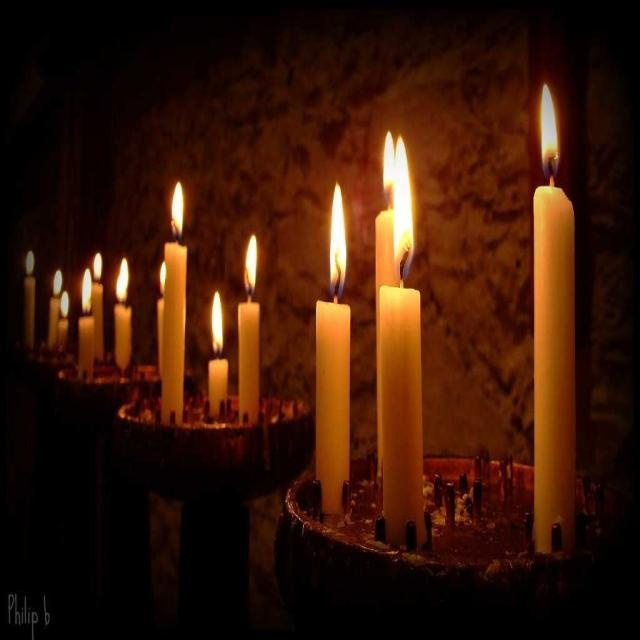Fire: (379, 125, 421, 276), (536, 80, 570, 186), (326, 180, 351, 292), (163, 169, 196, 240), (242, 227, 266, 298), (208, 286, 230, 358), (75, 257, 95, 319), (51, 266, 68, 318), (115, 252, 131, 306), (22, 241, 38, 281)
